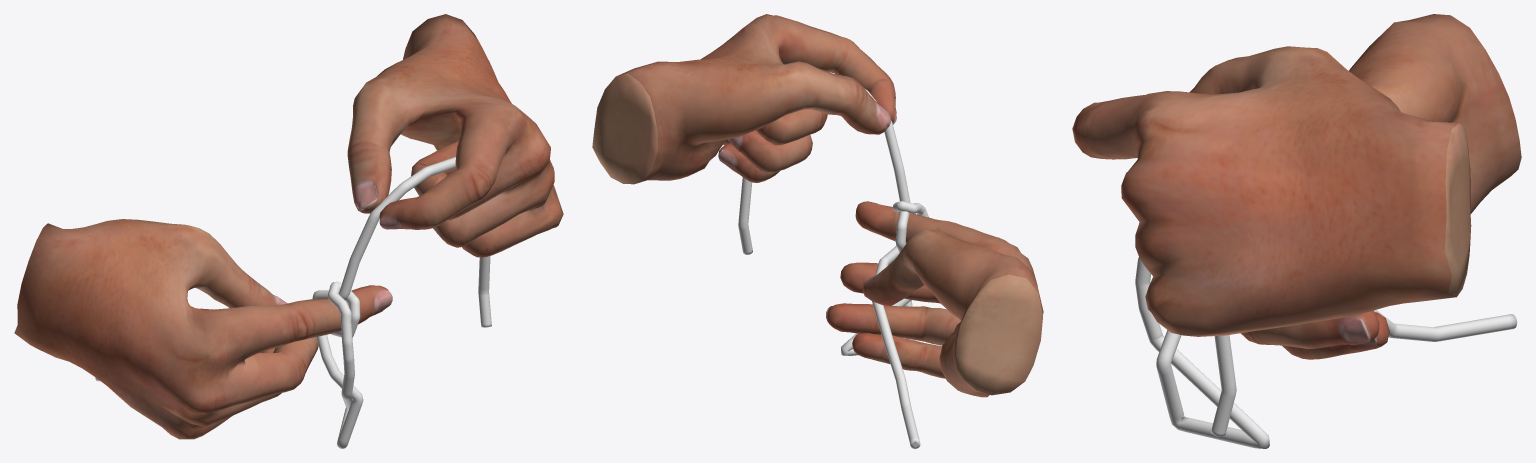
File: zfk_part2_assi_greenback.fbx
3 renders of one model, left to right at view 1: azimuth 30°, elevation 25°; view 2: azimuth 150°, elevation 25°; view 3: azimuth 270°, elevation 25°, orthographic. The views are drawn at different scales.
Parts seen in each view (by area): view 1: Hand_R, Hand_L, faden_L, faden_R; view 2: Hand_L, Hand_R, faden_R, faden_L; view 3: Hand_L, Hand_R, faden_R, faden_L.
Part boxes in pixels (bbox=[...]): Hand_R: bbox=[14, 219, 392, 439]; Hand_L: bbox=[347, 14, 563, 257]; faden_L: bbox=[312, 157, 491, 448]; faden_R: bbox=[95, 281, 360, 427]; Hand_L: bbox=[592, 14, 896, 184]; Hand_R: bbox=[826, 201, 1043, 397]; faden_R: bbox=[841, 201, 928, 448]; faden_L: bbox=[738, 89, 915, 340]; Hand_L: bbox=[1072, 46, 1471, 336]; Hand_R: bbox=[1241, 14, 1521, 359]; faden_R: bbox=[1135, 257, 1517, 448]; faden_L: bbox=[1156, 330, 1236, 437].
Bounding box in the file's own units: 30.24 × 19.32 × 17.93.
